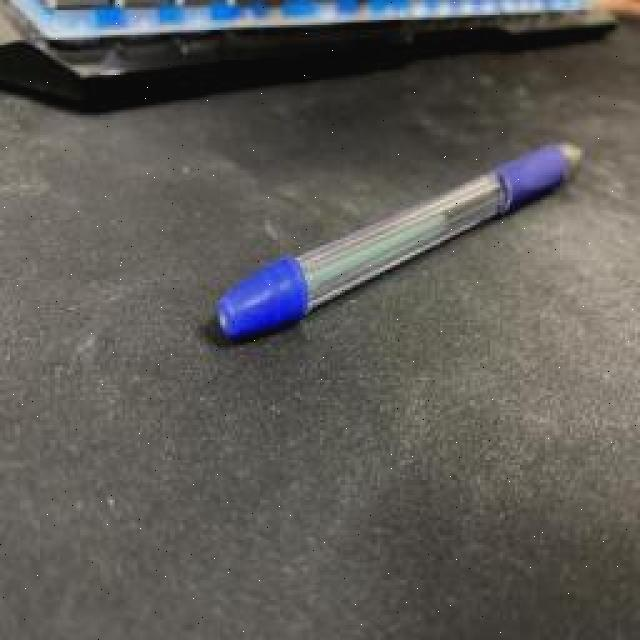pen: (218, 143, 588, 343)
